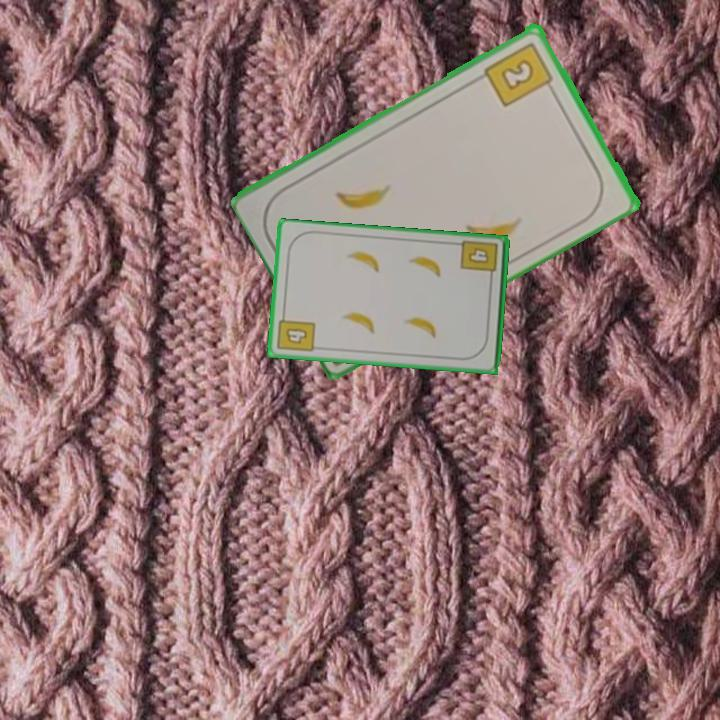2b: (481, 38, 558, 109)
4b: (457, 237, 501, 284), (274, 309, 318, 355)
